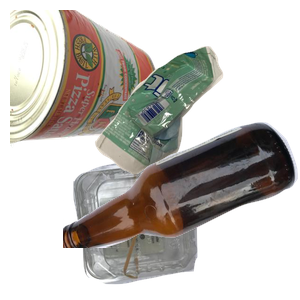glass: (63, 120, 300, 300)
metal: (10, 10, 159, 152)
plastic: (71, 154, 300, 300)
trash: (92, 44, 300, 211)
